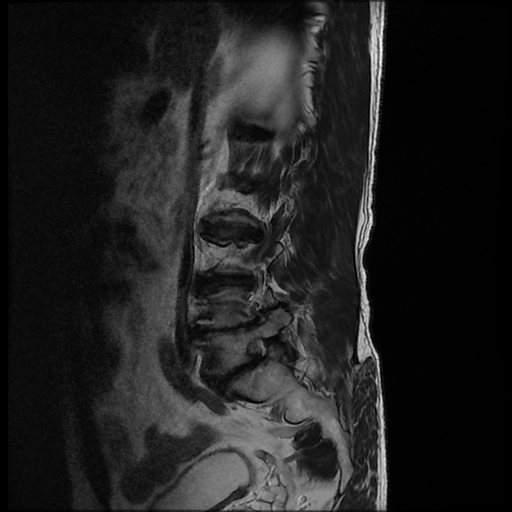RFS2: (240, 329, 280, 374)
